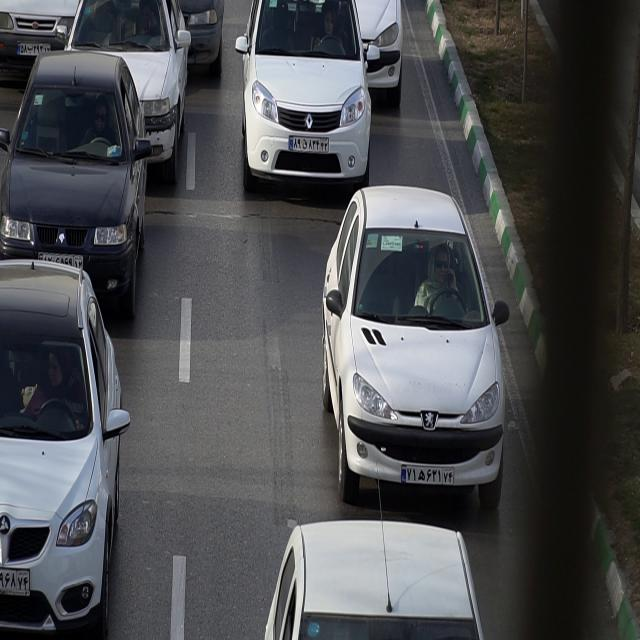car: (322, 188, 508, 516), (0, 262, 130, 635), (0, 53, 152, 323), (236, 0, 378, 194), (263, 520, 487, 638), (63, 3, 191, 173)
